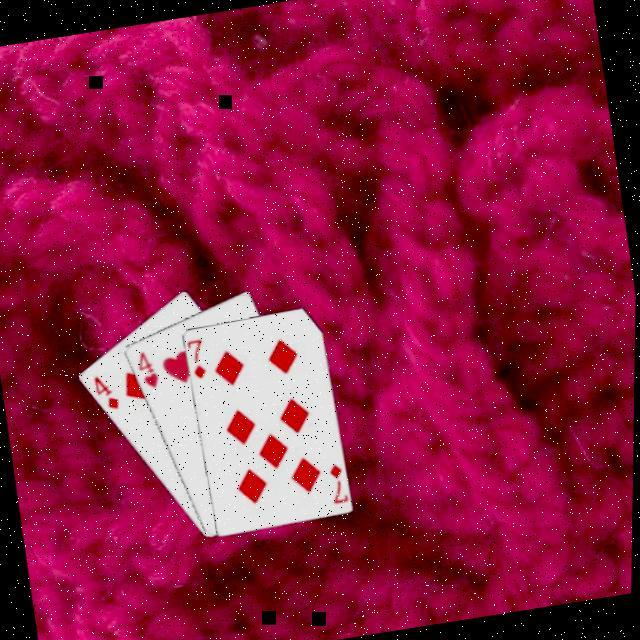4D: (88, 372, 123, 418)
4H: (131, 348, 163, 395)
7D: (184, 337, 210, 385), (324, 461, 350, 509)
